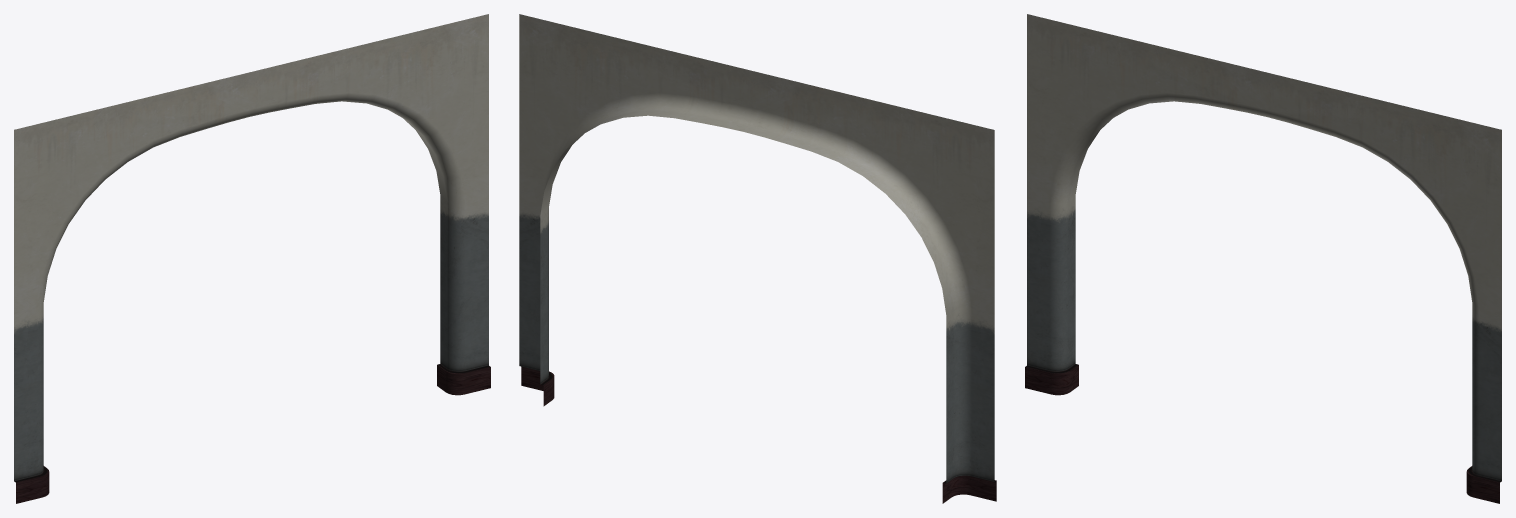
File: Wall 4 Arch.fbx
3 views of the same model, side by side, from view 1: azimuth 30°, elevation 25°; view 2: azimuth 150°, elevation 25°; view 3: azimuth 330°, elevation 25° (orthographic).
Visible parts, largest first — view 1: Wall_4_Arch; view 2: Wall_4_Arch; view 3: Wall_4_Arch.
Boxes of the visible parts, x1,y1,x2,y2 form: Wall_4_Arch: (14, 14, 490, 503); Wall_4_Arch: (519, 14, 996, 503); Wall_4_Arch: (1025, 14, 1501, 503).
Bounding box in the file's own units: 400 × 300 × 23.
